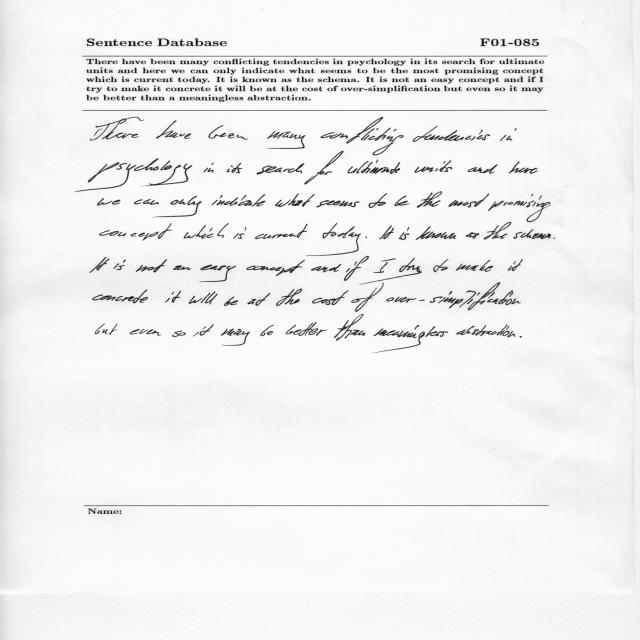word: (76, 158, 193, 192), (386, 282, 521, 310), (321, 117, 404, 155), (373, 325, 448, 353), (306, 223, 367, 256), (488, 194, 551, 222), (359, 258, 422, 284), (305, 151, 344, 185), (90, 117, 144, 141), (100, 224, 173, 241), (413, 126, 490, 142), (351, 282, 384, 312), (157, 196, 202, 217), (246, 260, 305, 276), (255, 224, 308, 239), (334, 314, 363, 341), (456, 325, 516, 338), (93, 290, 148, 304), (347, 160, 400, 174), (184, 223, 229, 239), (267, 131, 305, 149), (156, 120, 191, 139), (212, 194, 265, 206), (344, 256, 369, 281), (200, 265, 236, 282), (208, 125, 248, 140), (286, 322, 328, 336), (448, 194, 489, 208), (275, 193, 315, 207), (416, 226, 456, 240), (312, 290, 348, 305), (257, 164, 305, 175), (221, 328, 250, 346), (484, 222, 512, 240), (415, 160, 453, 173), (456, 260, 493, 272), (276, 289, 302, 306), (136, 259, 167, 273), (417, 191, 442, 208), (513, 229, 551, 239), (189, 292, 217, 305), (509, 162, 538, 174), (90, 257, 109, 273), (317, 201, 360, 208), (247, 293, 270, 306), (193, 324, 214, 337), (468, 165, 498, 174), (369, 193, 387, 208), (96, 324, 118, 335), (311, 264, 341, 272), (500, 128, 517, 141), (130, 329, 161, 336), (434, 259, 449, 272), (165, 291, 181, 303), (98, 198, 121, 206), (379, 226, 392, 240), (233, 227, 247, 239), (508, 259, 522, 271), (260, 325, 274, 336), (227, 163, 242, 173), (134, 199, 159, 205), (395, 196, 409, 206), (224, 296, 238, 306), (399, 227, 409, 240), (383, 228, 394, 239), (114, 260, 126, 270), (204, 163, 214, 173), (466, 232, 479, 239), (174, 265, 192, 270), (172, 331, 186, 337), (351, 330, 365, 336), (354, 261, 357, 266), (520, 336, 522, 338), (554, 237, 555, 239)
